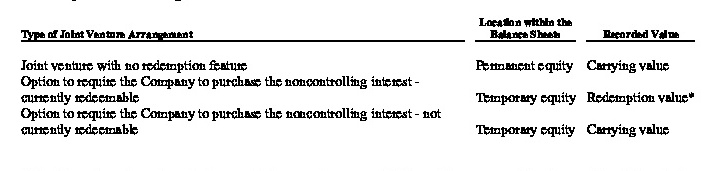table: (0, 0, 714, 171)
